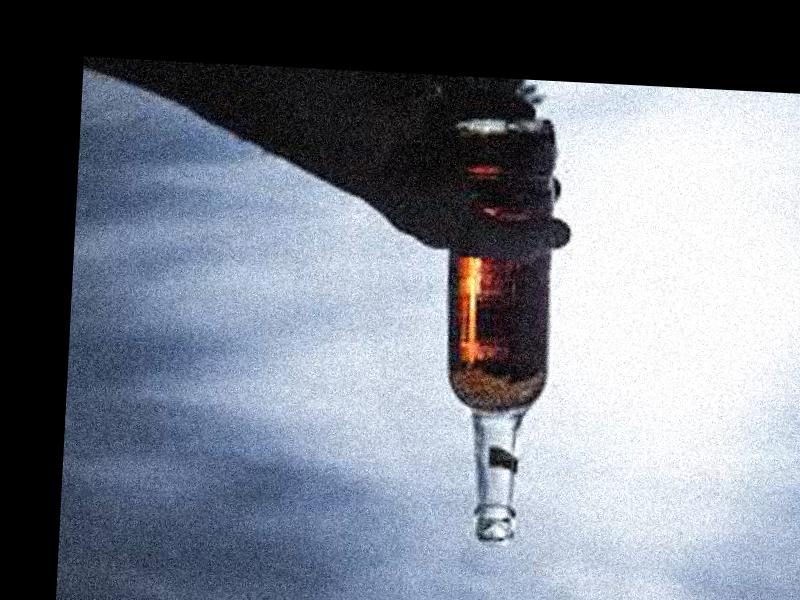Beer: (434, 121, 554, 545)
